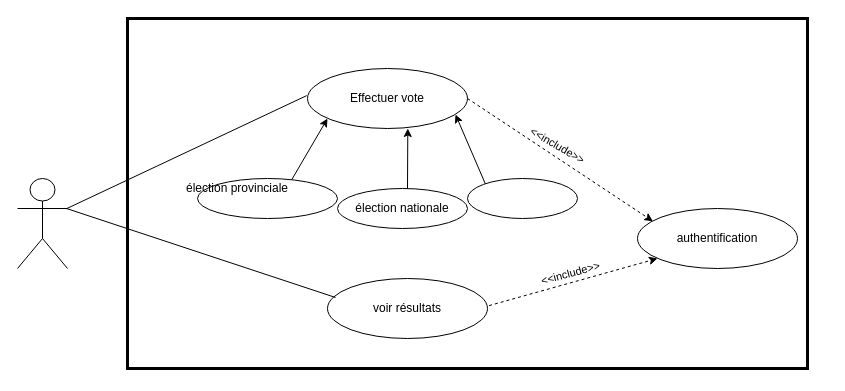
Image size: 845x391. Some labels were removed from this diagram. Each missing label, with the centre of its shape:
Actor: point (42, 223)
élection présidentielle: point (522, 198)
